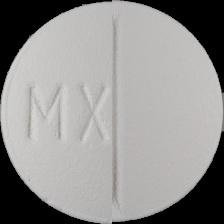0378-6233: (0, 0, 224, 224)
